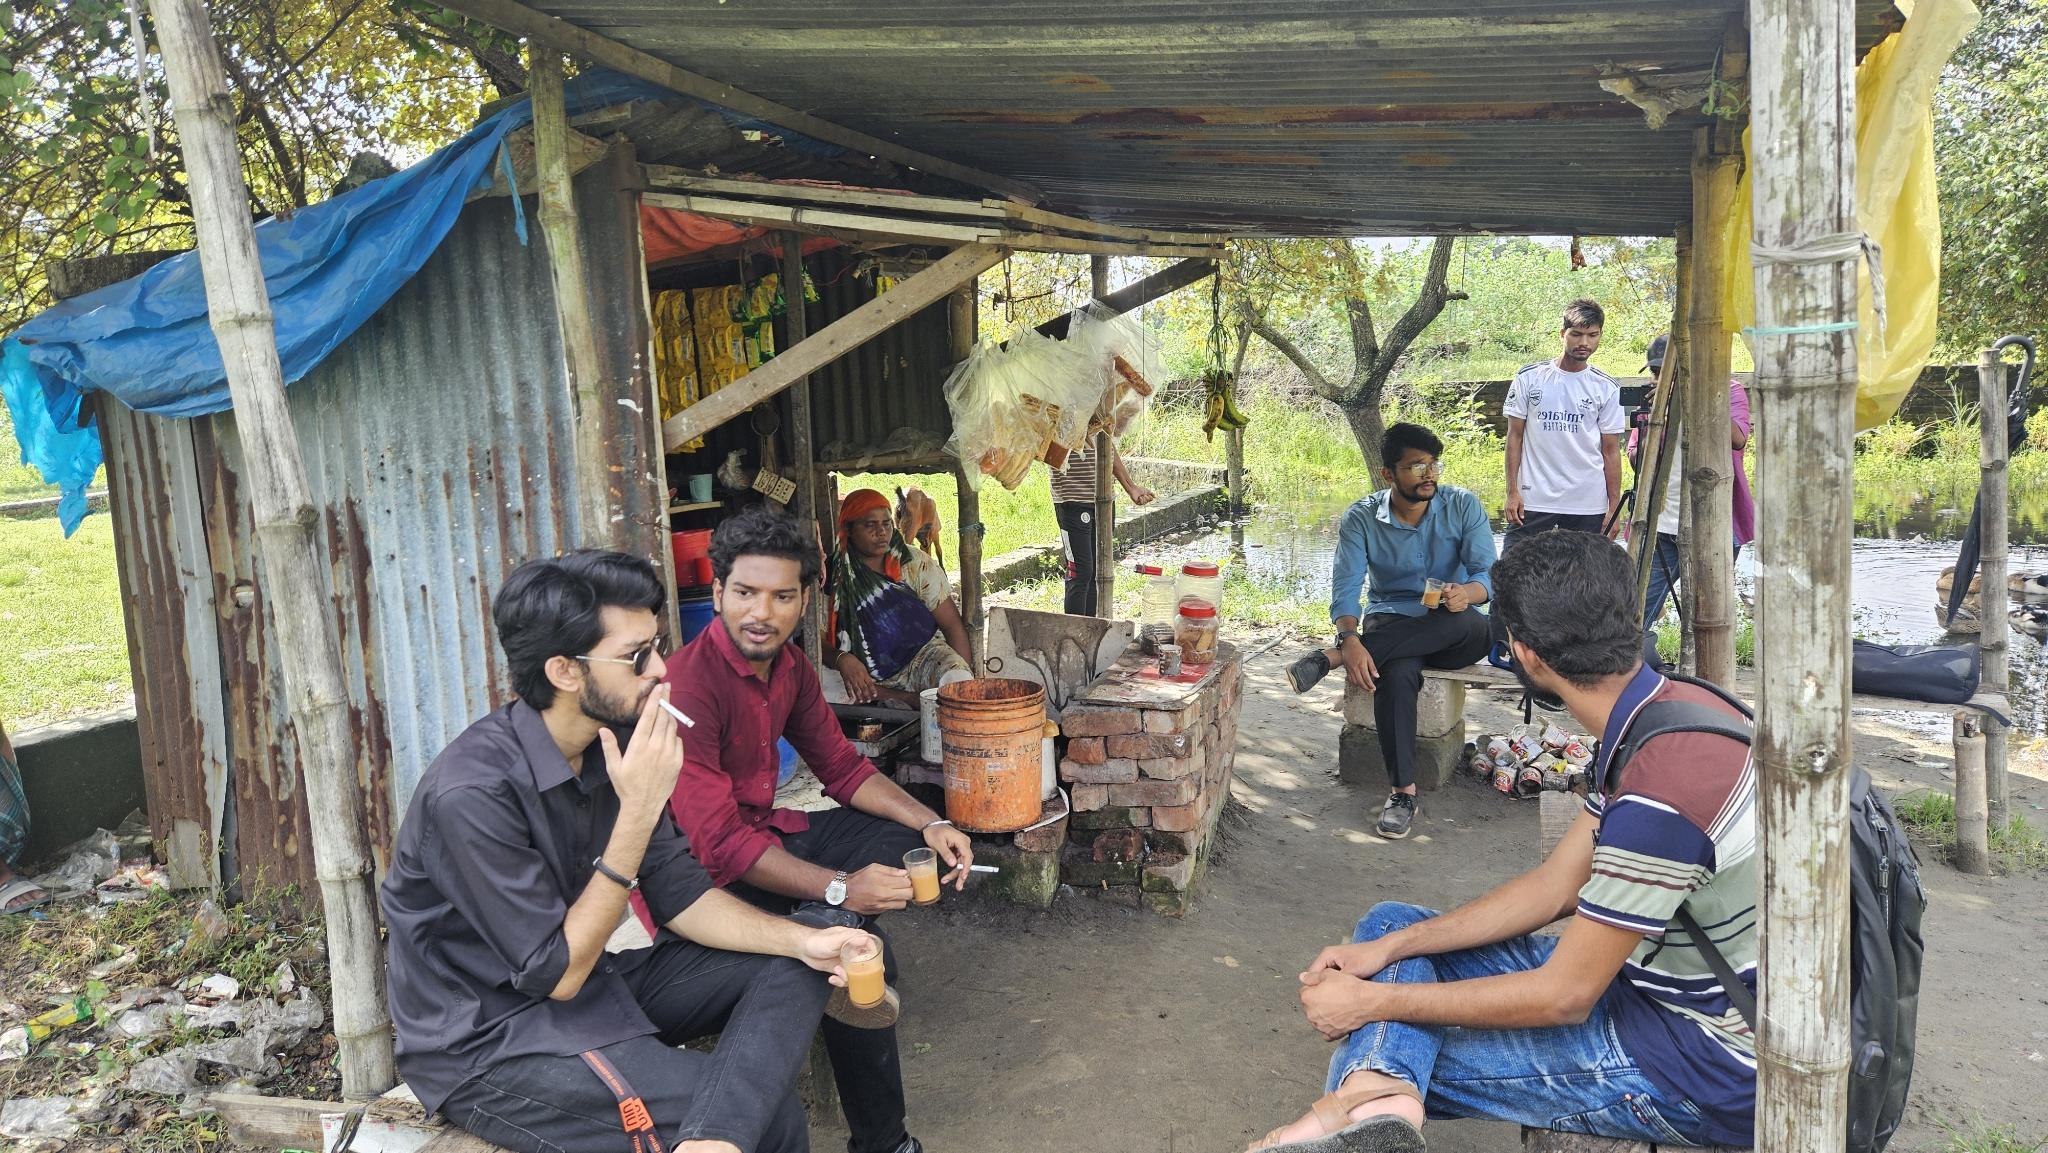cigarette: (657, 696, 698, 730), (955, 862, 1000, 875)
nonSmoker: (1246, 527, 1757, 1153), (1283, 422, 1494, 839), (820, 488, 973, 706), (1501, 299, 1626, 553)
smoker: (376, 547, 869, 1153), (664, 508, 1014, 927)
